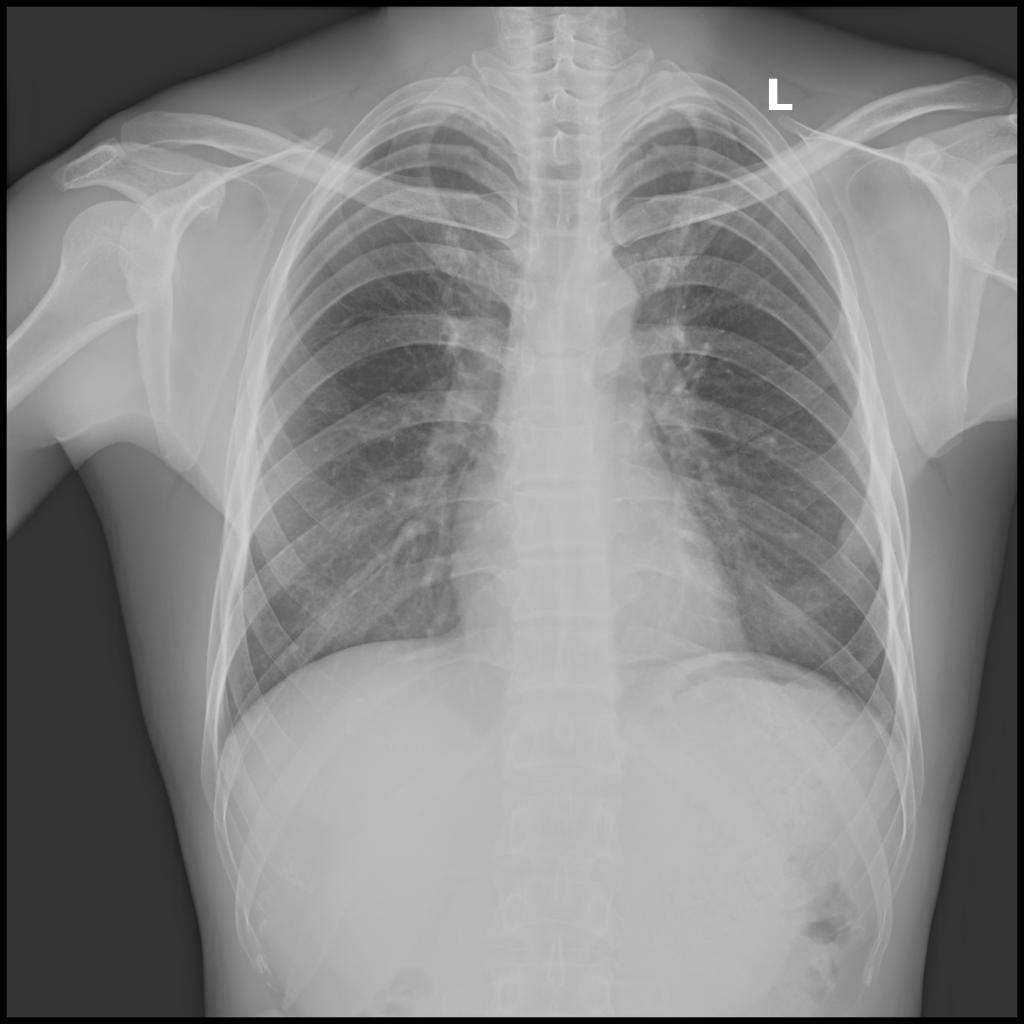Nodule: (840, 509, 875, 566)
